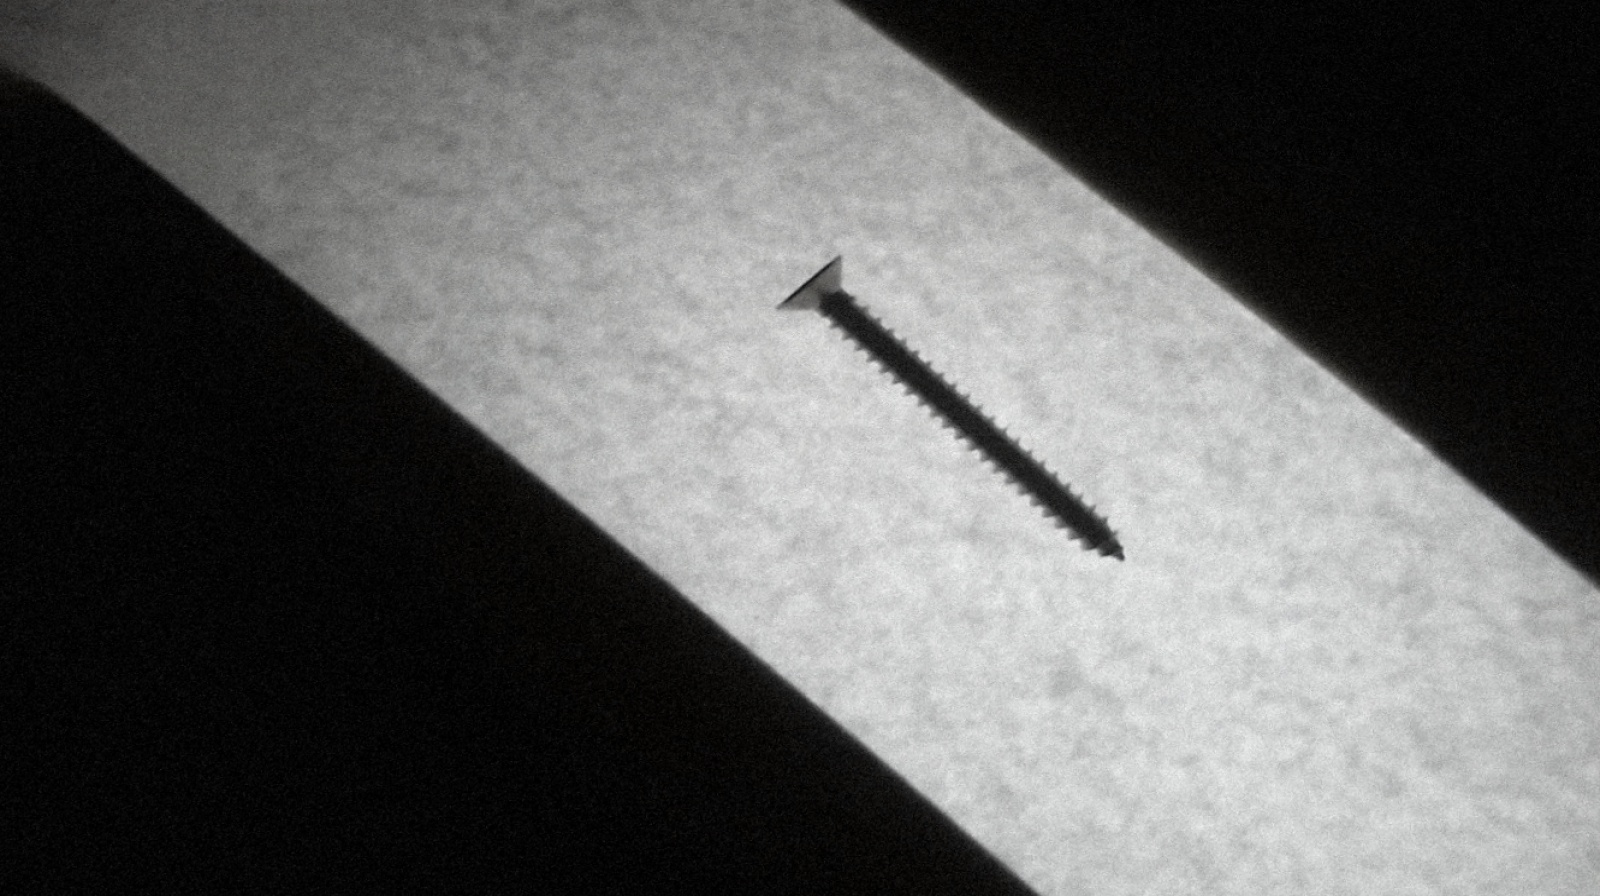S002: (742, 248, 1149, 573)
